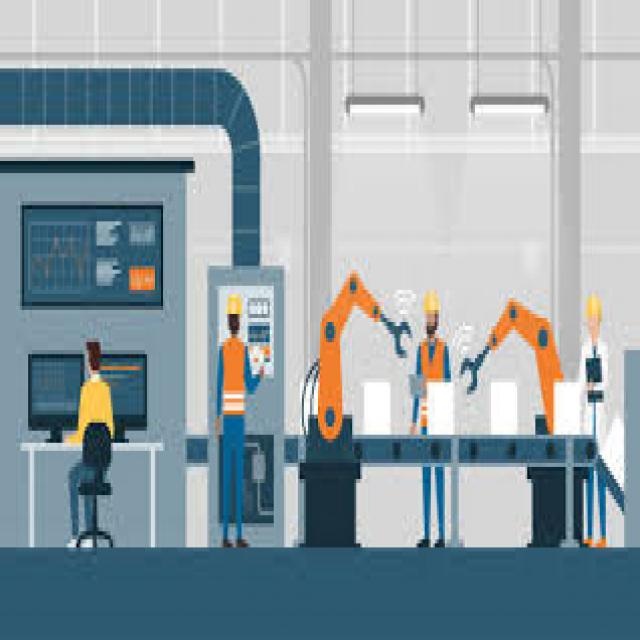Reflective-Jacket: (222, 338, 248, 419)
Safety-Helmet: (420, 286, 442, 318), (226, 290, 243, 318)
